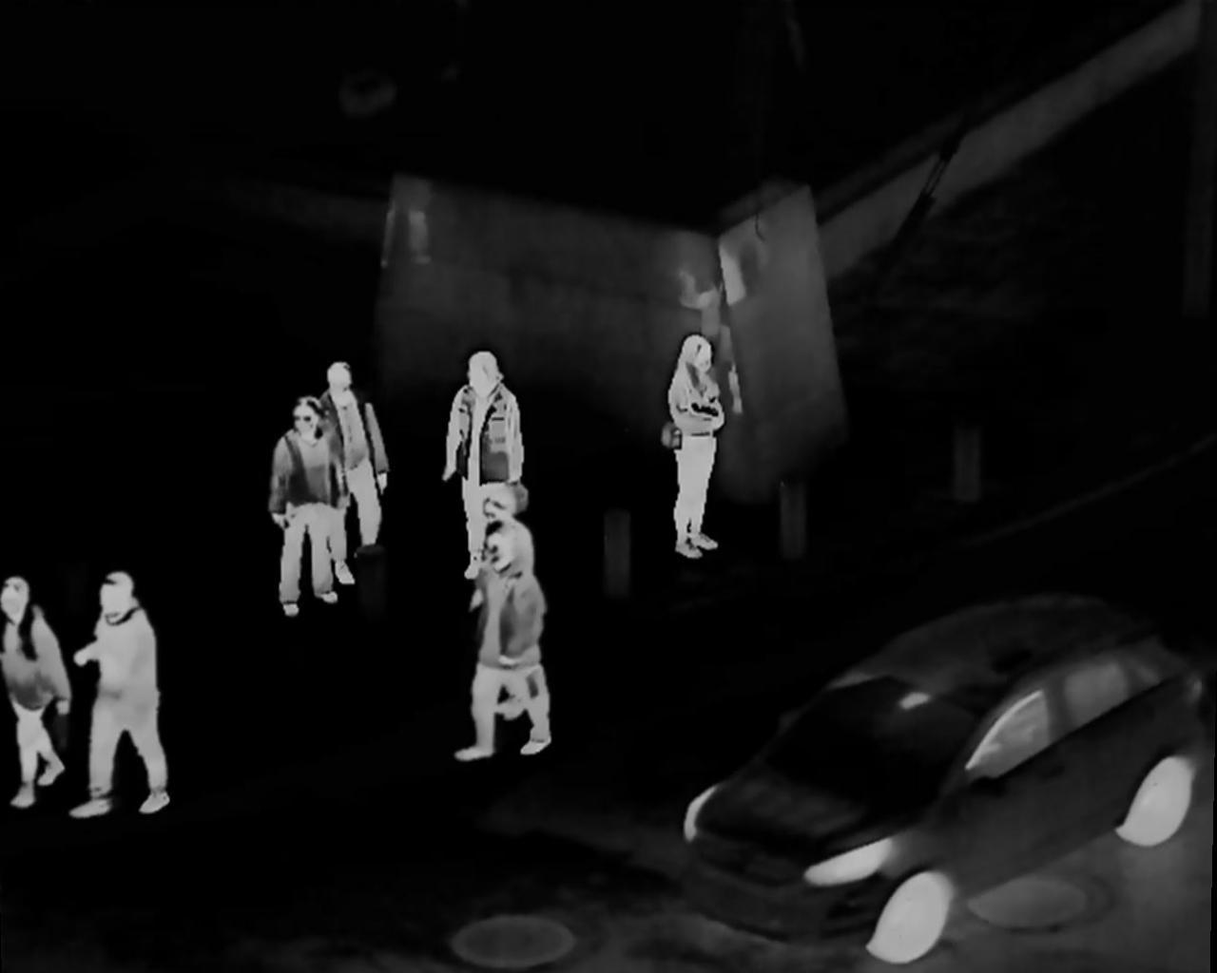person: (460, 484, 552, 761), (76, 574, 180, 813), (444, 349, 524, 577), (264, 402, 340, 611), (320, 359, 391, 553), (665, 334, 723, 562)
